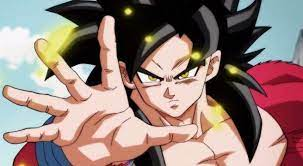Songoku: (117, 21, 224, 119)
